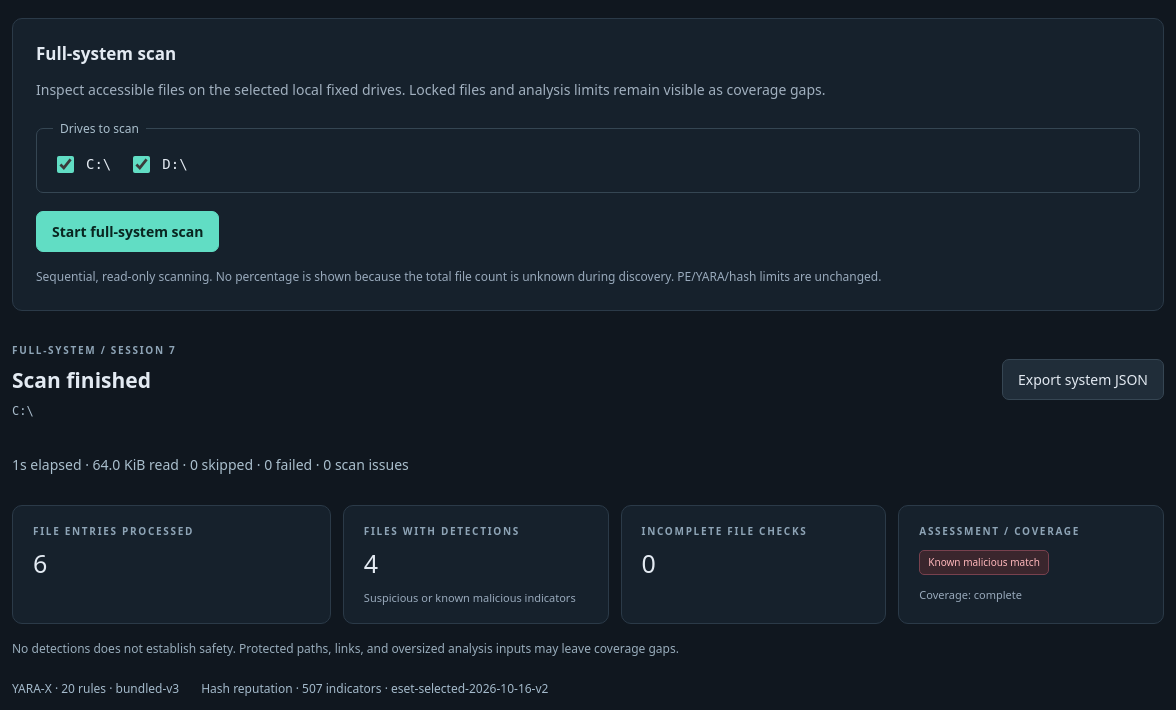
Test case: full-system scan workflow › does not invent a successful report when starting the worker fails
Step 1. Click the button "Start full-system scan" → {"x": 128, "y": 231}, box [36,210,219,252]
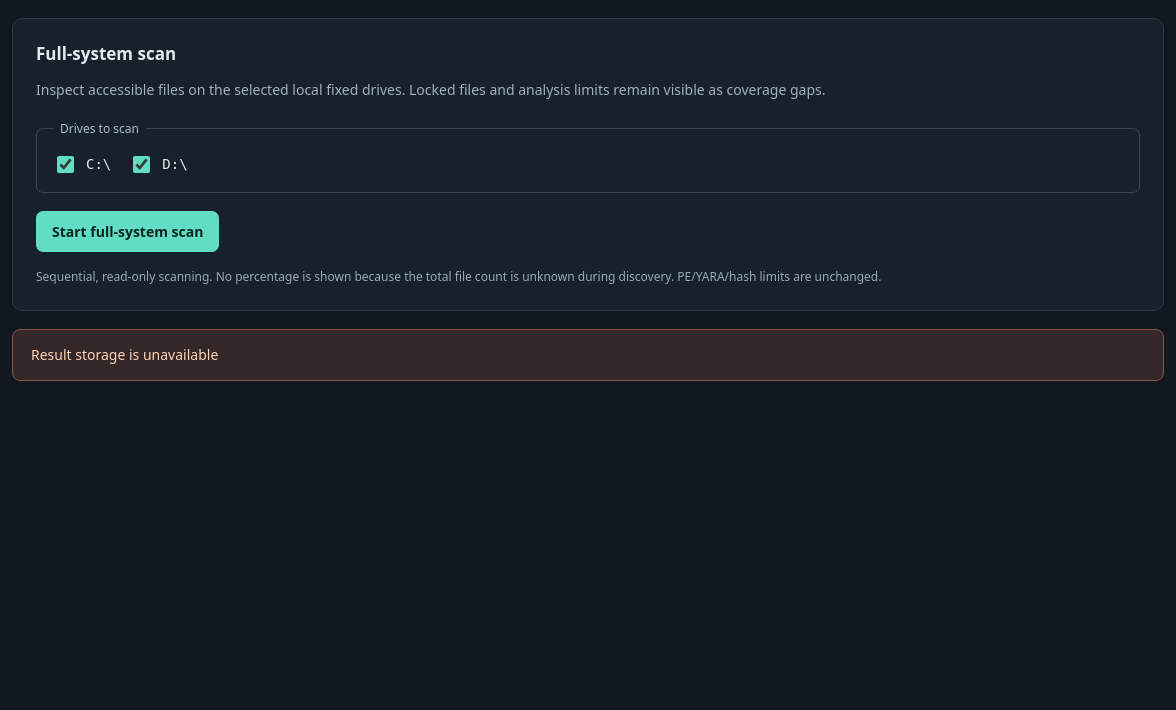
Check: the message reads "Result storage is unavailable", box [31,345,218,364]
Check: the heading "Scan finished" is gone
